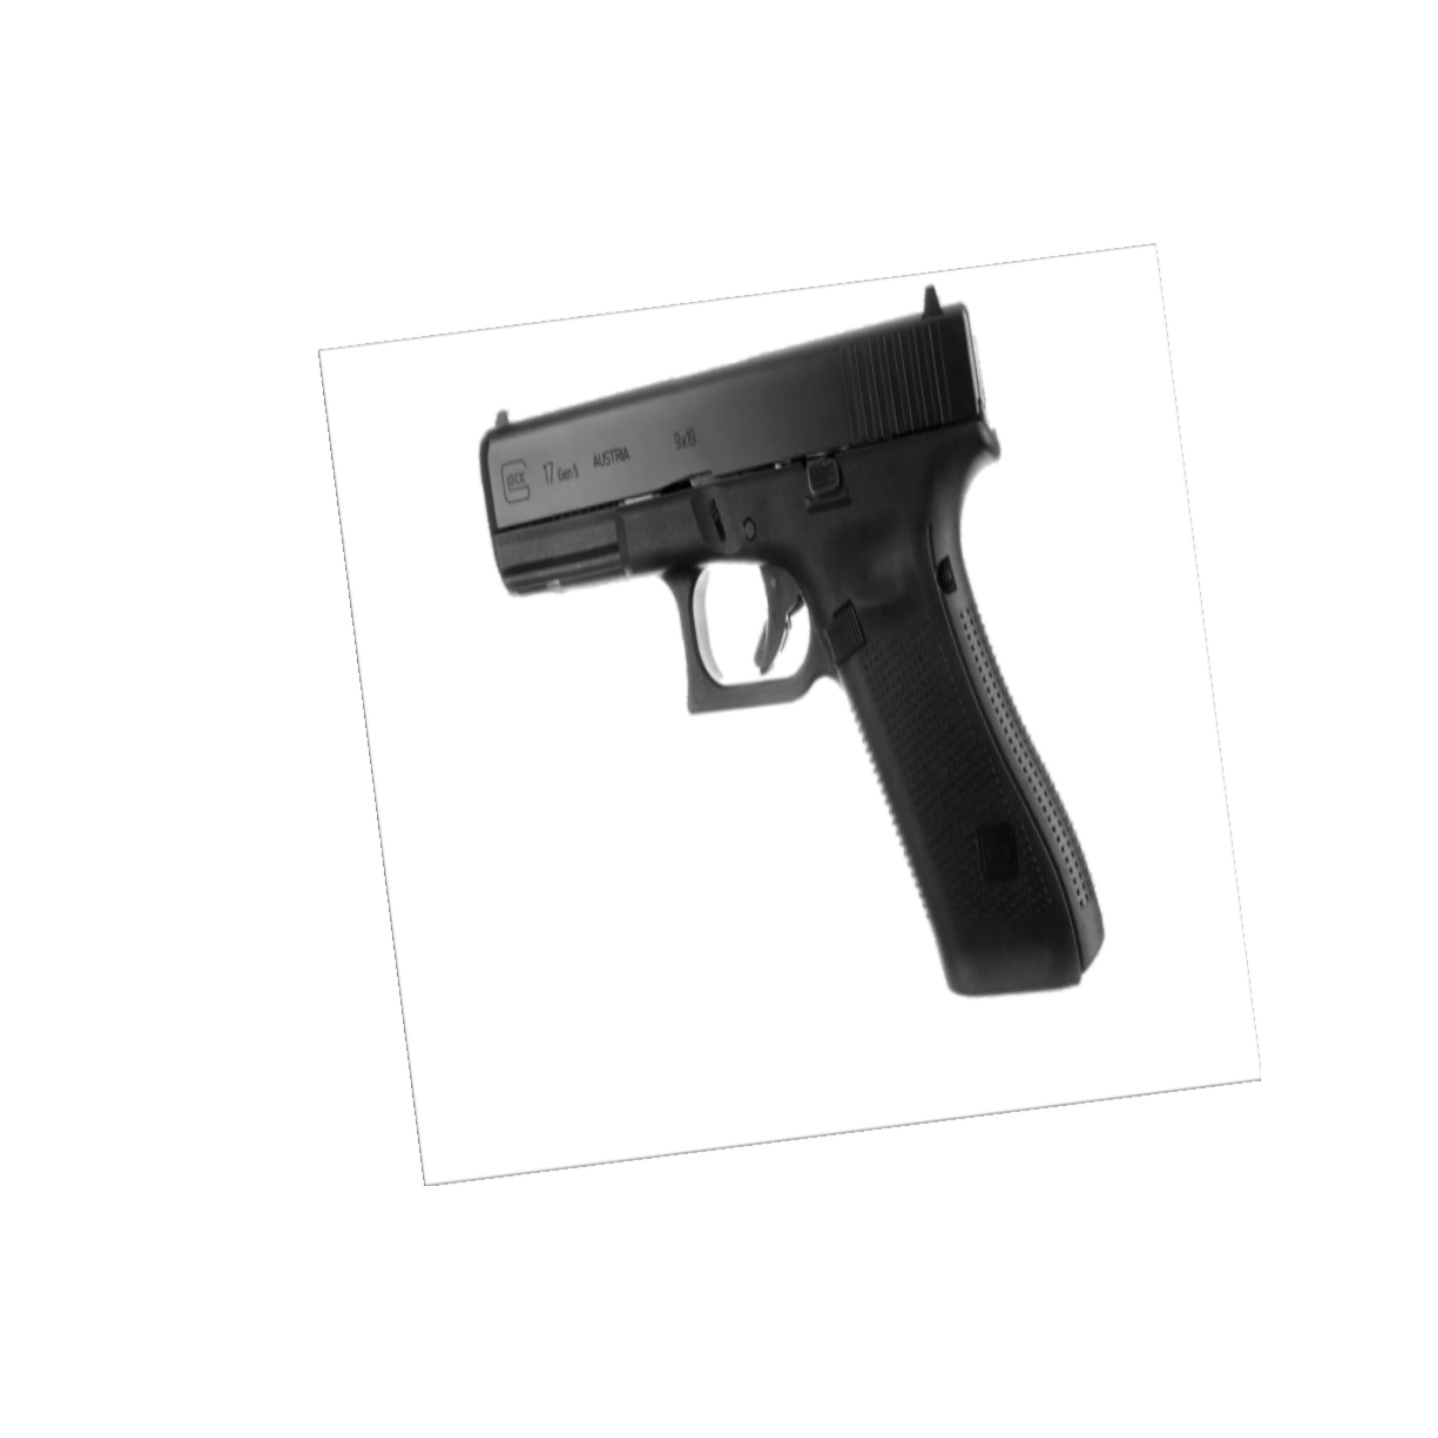gun: (471, 277, 1110, 1006)
